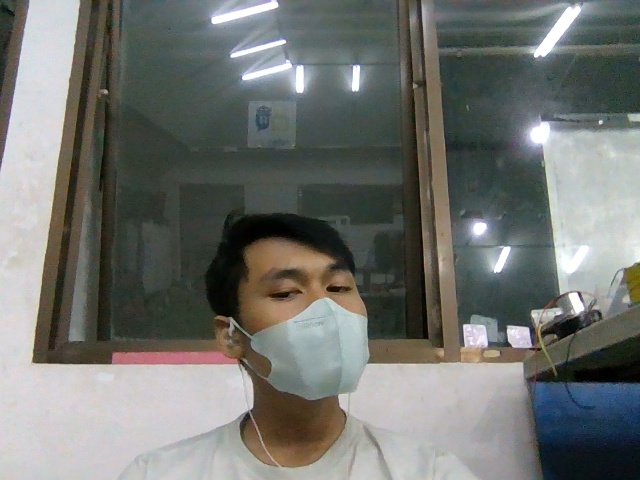mask_on: (251, 298, 370, 400)
